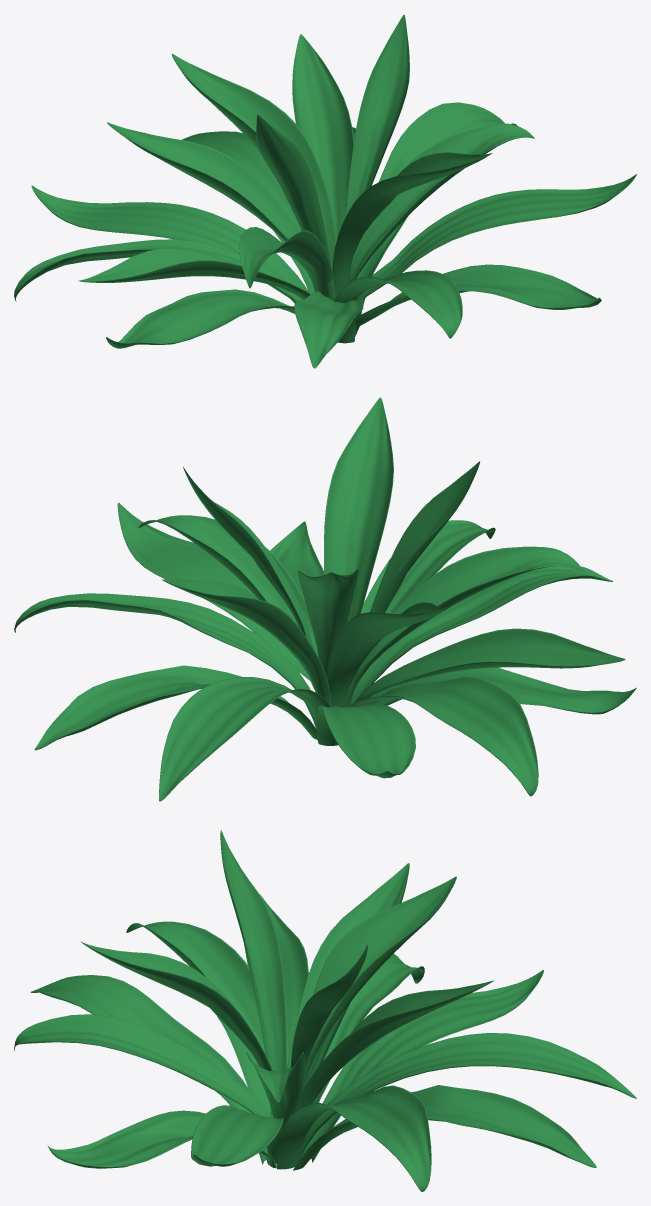
3 views of the same model, one above another, from view 1: azimuth 30°, elevation 25°; view 2: azimuth 150°, elevation 25°; view 3: azimuth 270°, elevation 25° (orthographic). The views are drawn at different scales.
Visible parts, largest first — view 1: Archmodels61_001_01; view 2: Archmodels61_001_01; view 3: Archmodels61_001_01.
Boxes of the visible parts, x1=… form: Archmodels61_001_01: x1=14, y1=14, x2=636, y2=368; Archmodels61_001_01: x1=14, y1=397, x2=636, y2=801; Archmodels61_001_01: x1=14, y1=830, x2=636, y2=1191.
Bounding box in the file's own units: 37.1 × 18.25 × 37.22.
